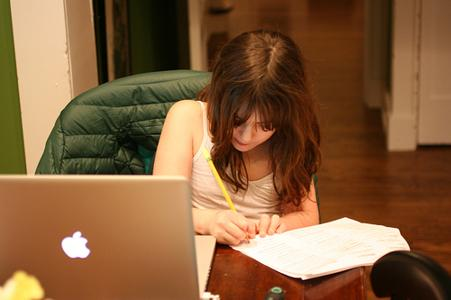person: (153, 31, 321, 248)
